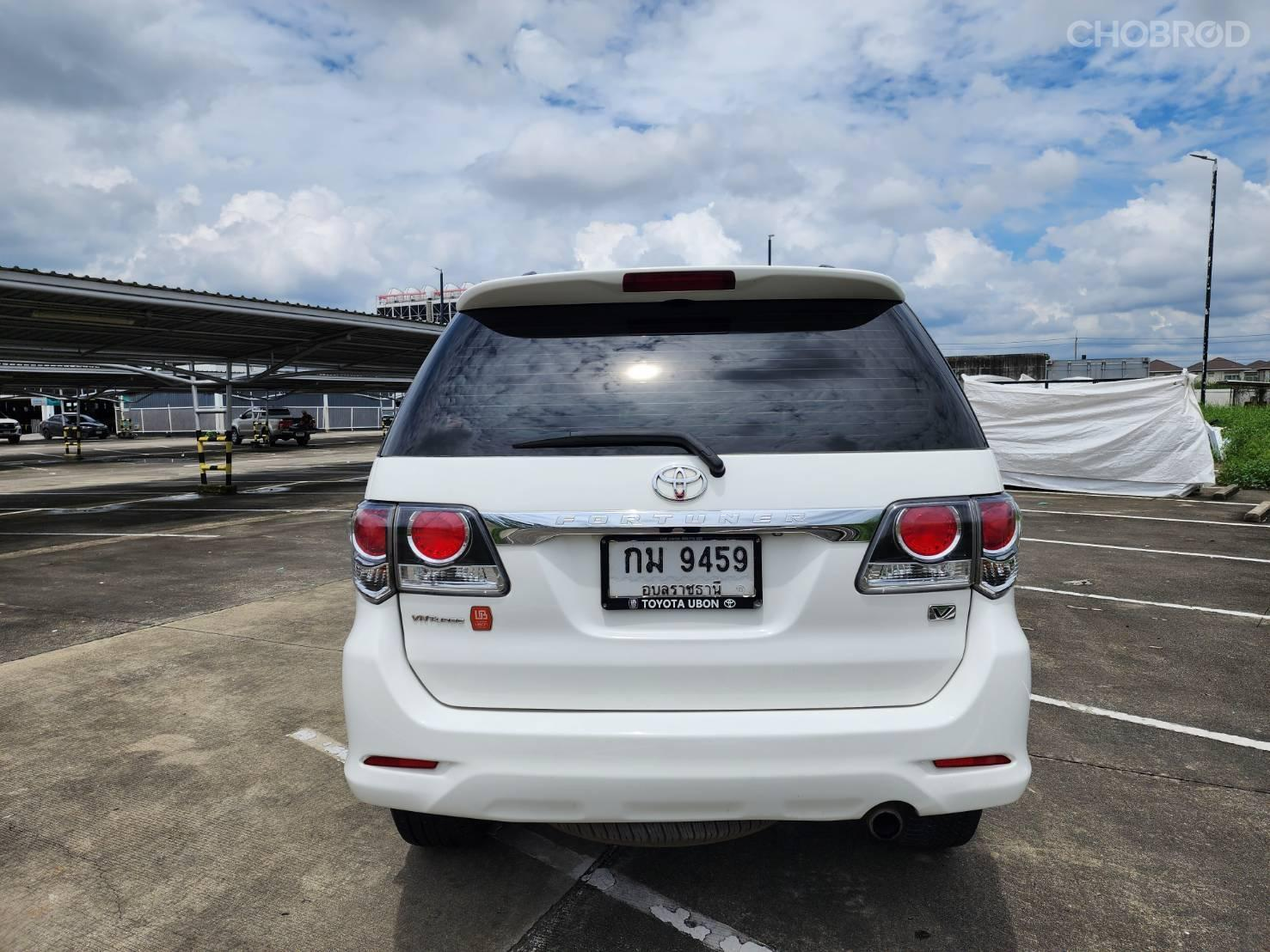license-plate: (601, 531, 762, 613)
